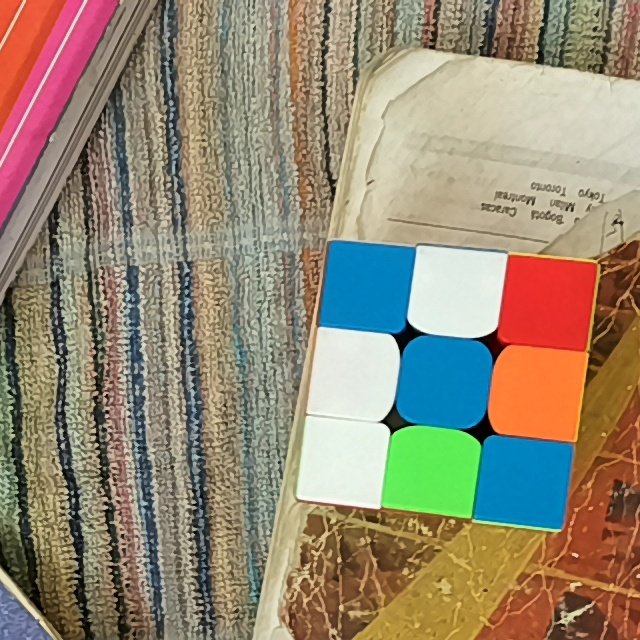tile: (511, 264, 585, 340), (486, 444, 562, 518), (328, 250, 405, 321), (418, 254, 495, 325), (501, 357, 575, 429), (409, 347, 481, 418), (319, 337, 389, 410), (306, 428, 377, 496), (396, 439, 470, 504)
